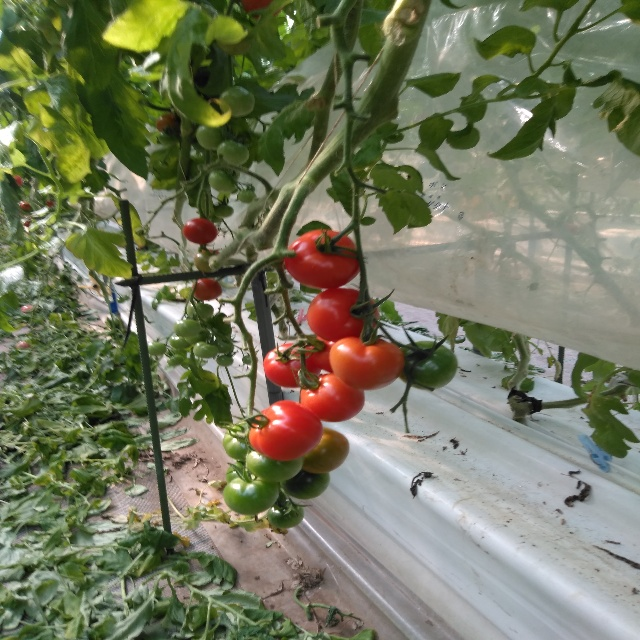l_fully_ripened: (284, 229, 360, 290), (249, 400, 323, 461), (306, 288, 379, 343), (299, 372, 366, 423), (263, 342, 322, 389), (183, 218, 218, 244), (311, 337, 335, 373), (191, 278, 223, 301)
l_green: (399, 340, 458, 391), (223, 473, 281, 516), (246, 451, 304, 482), (281, 469, 330, 501), (223, 416, 256, 461), (218, 86, 255, 119), (266, 500, 304, 529), (196, 123, 230, 150), (217, 139, 249, 166), (208, 167, 237, 193), (193, 251, 223, 273), (226, 460, 251, 484), (187, 302, 214, 320), (174, 320, 201, 338), (193, 342, 219, 359), (214, 337, 234, 354), (170, 335, 193, 349), (214, 205, 234, 218), (238, 189, 256, 203), (148, 342, 167, 355), (216, 355, 233, 367), (167, 354, 184, 366)
l_half_ripened: (328, 336, 404, 391), (303, 425, 350, 474)
